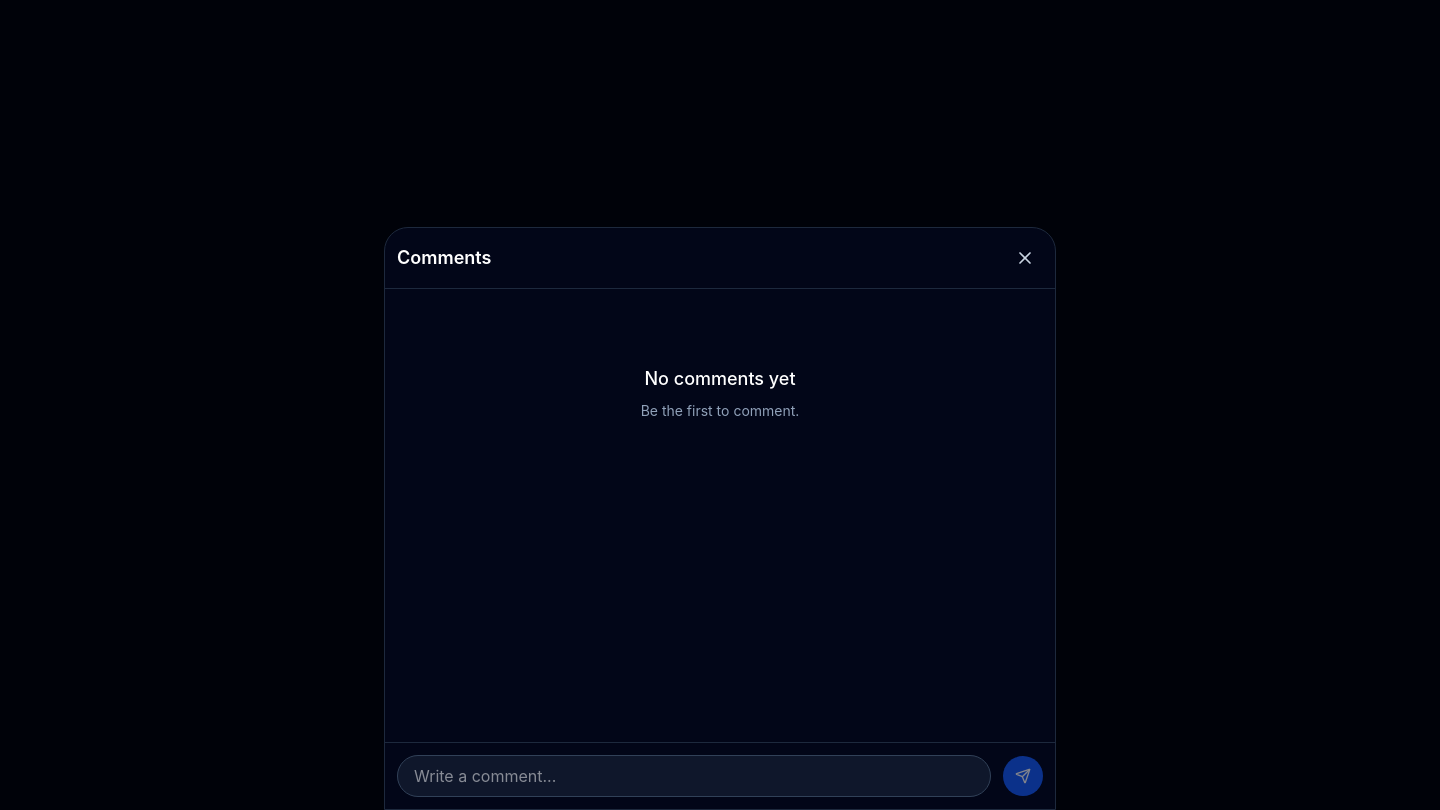
Test: CommentsModal › posts trimmed comments, clears the composer, and reports submission errors
In the field labelled "Write a comment": (694, 776) [397,755,991,797], type "  Hello there  "
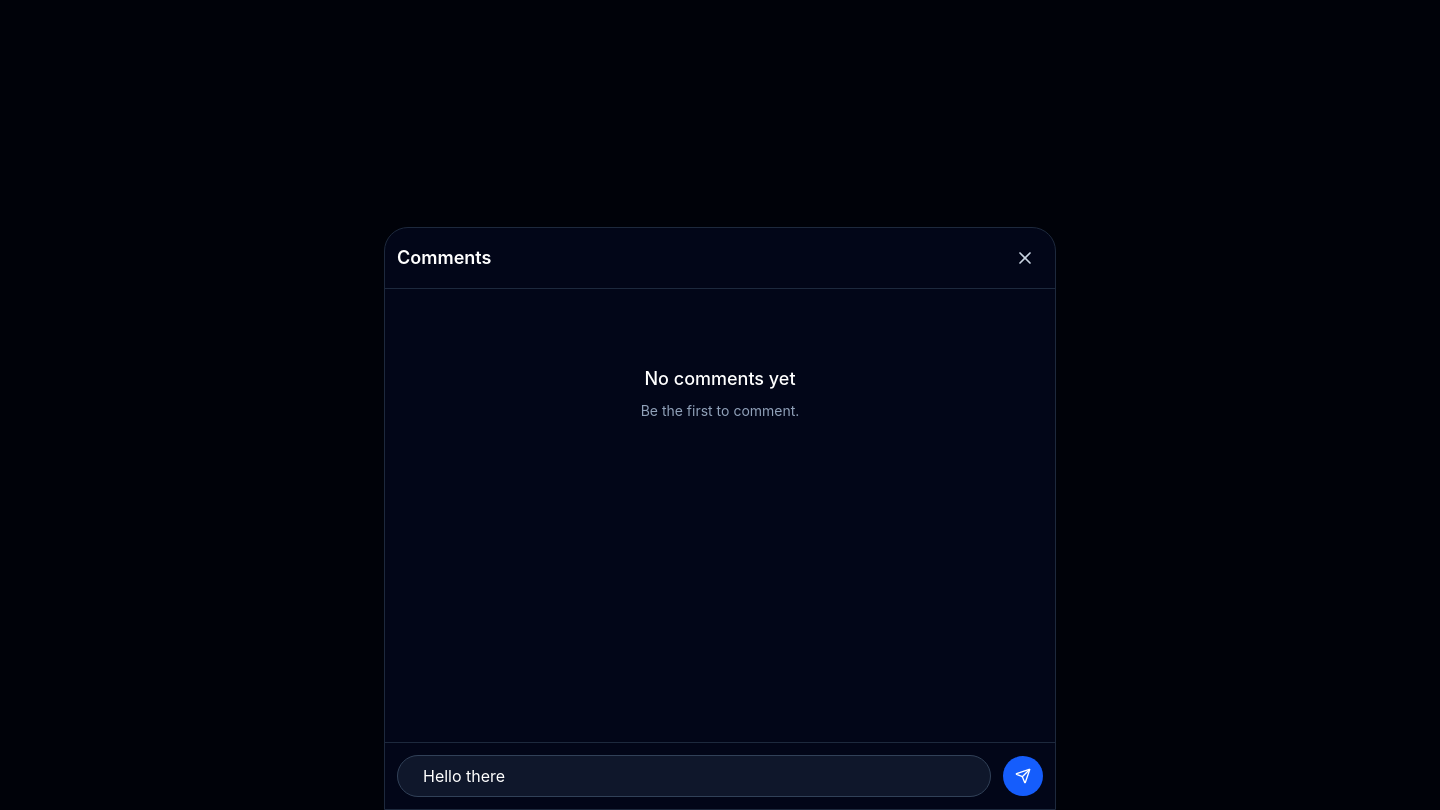
Press Enter in the field named "Write a comment", box [397,755,991,797]
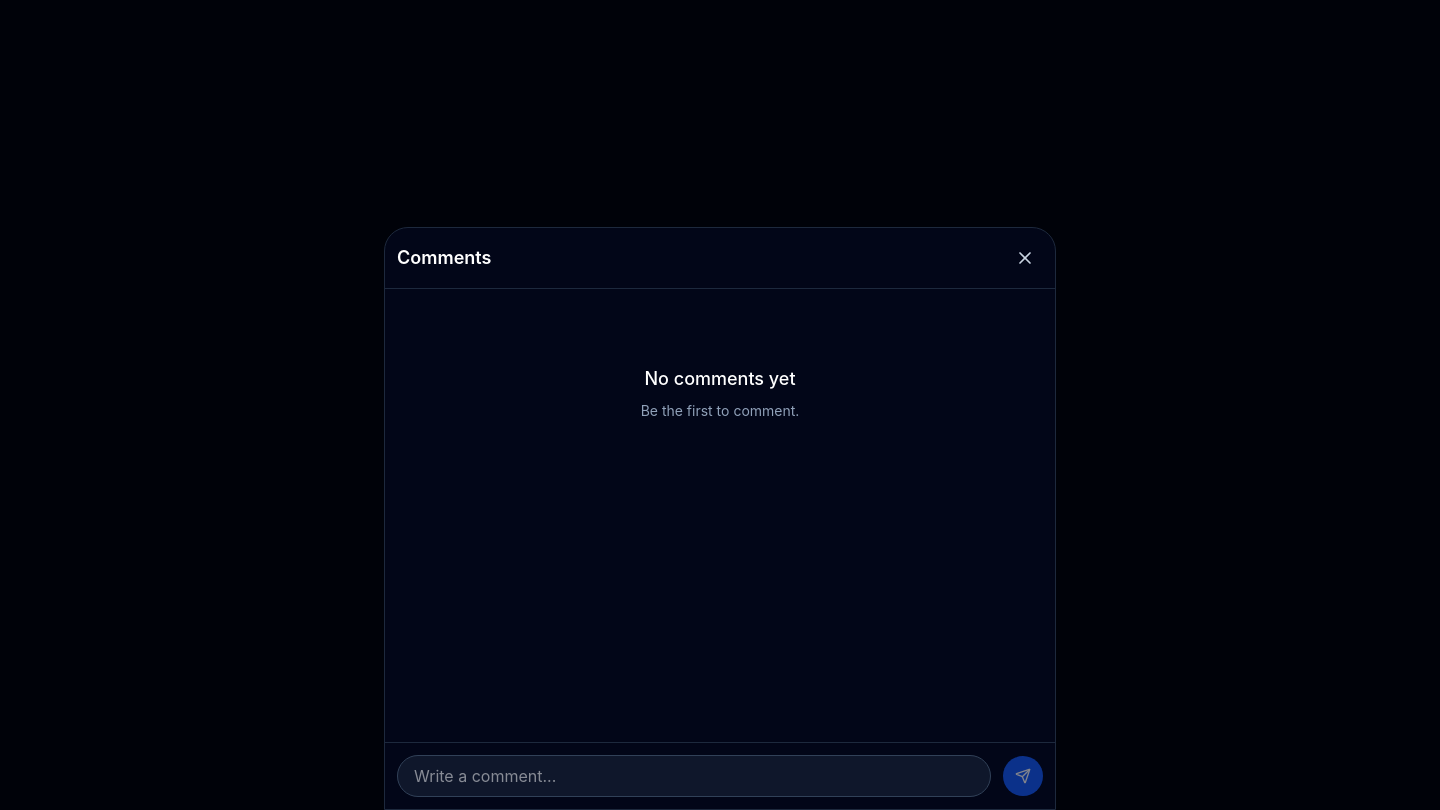
Expected: the field labelled "Write a comment" is empty
In the field labelled "Write a comment": (694, 776) [397,755,991,797], type "Retry me"
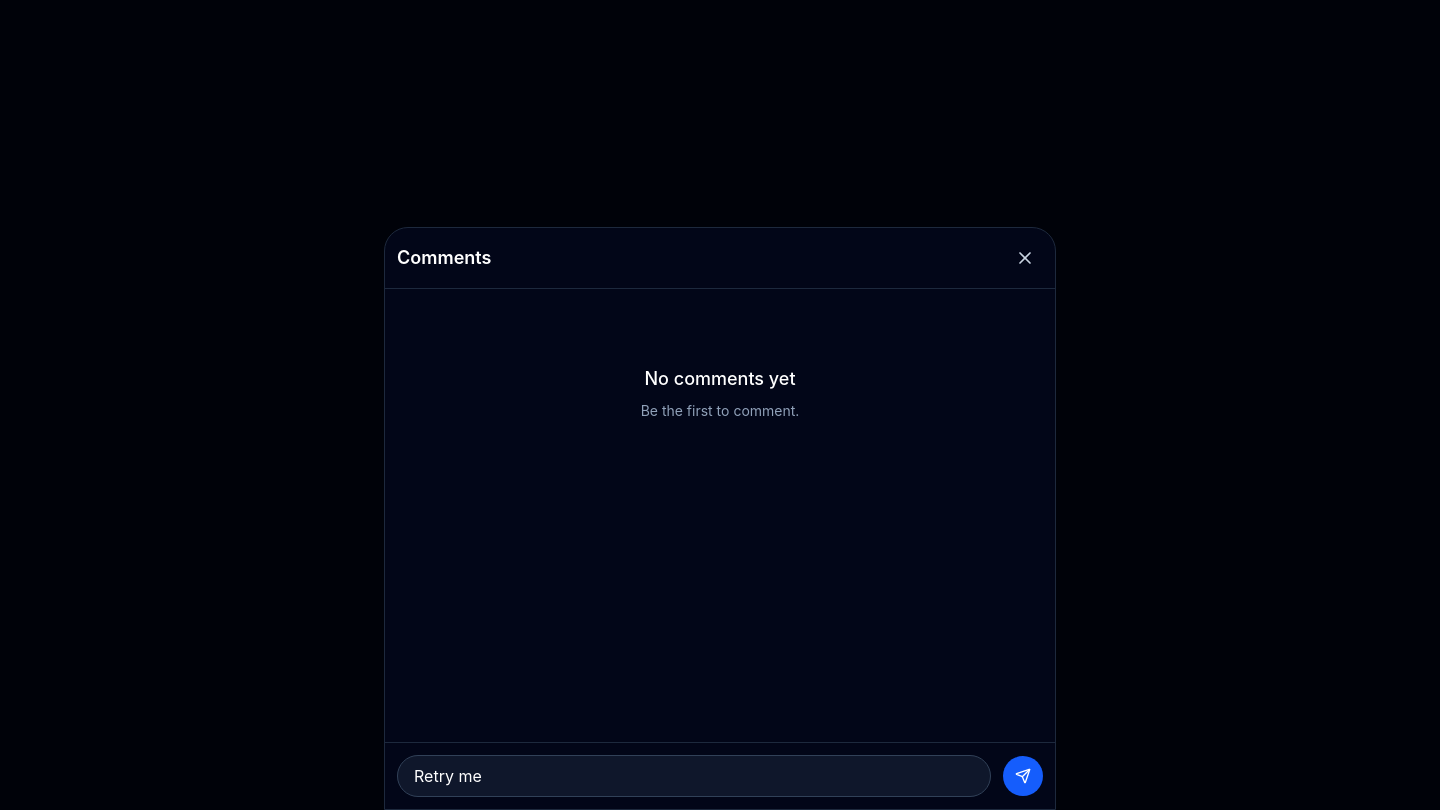
Click the button named "Send comment": (1023, 776) [1003,756,1043,796]
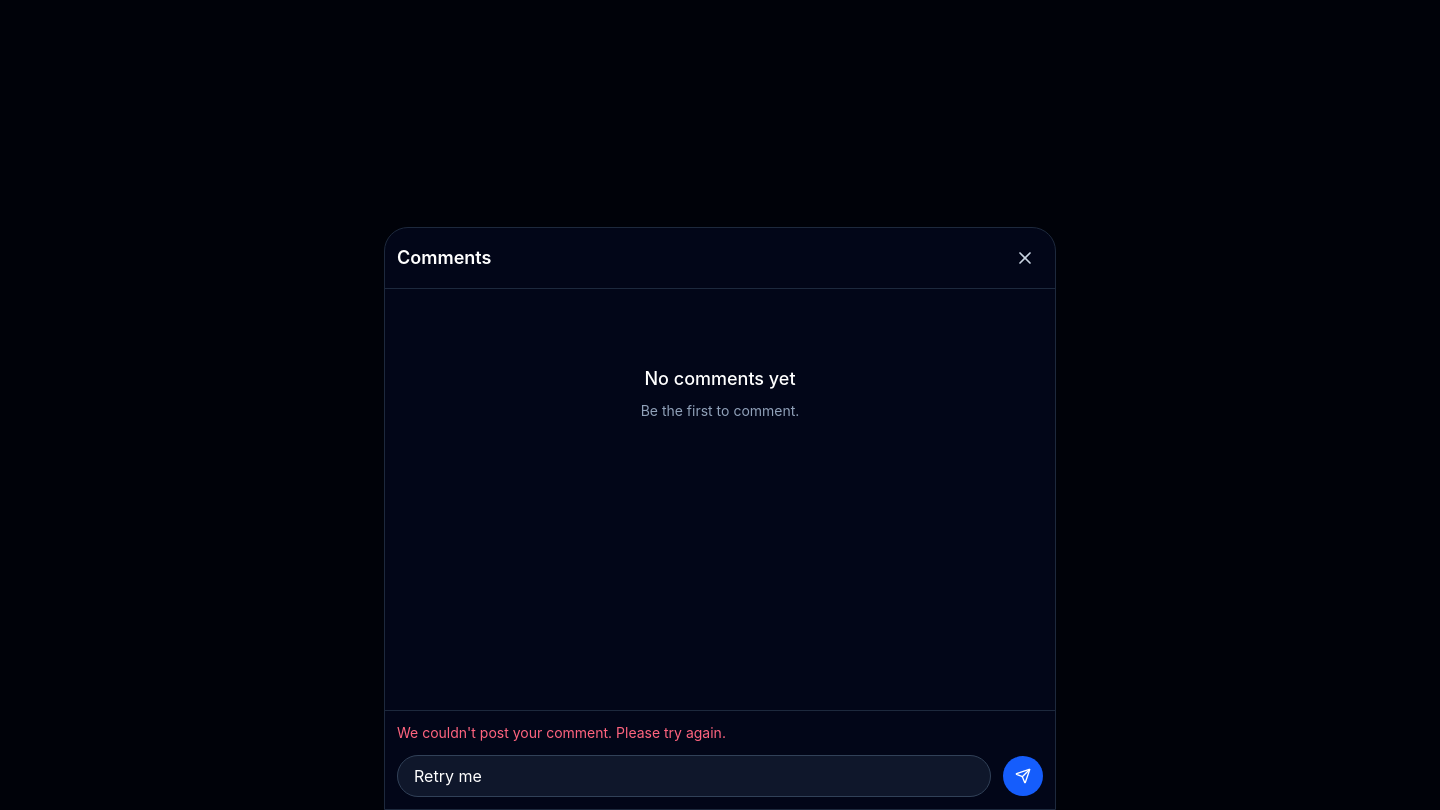
Expected: the message reads "We couldn't post your comment. Please try again.", [397,724,726,741]
